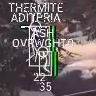hacks_1: (8, 2, 74, 91)
